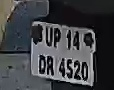0: (80, 61, 90, 84)
1: (66, 31, 71, 51)
2: (73, 60, 81, 83)
4: (56, 57, 66, 79), (73, 31, 82, 52)
5: (66, 59, 73, 81)
D: (37, 54, 46, 75)
P: (54, 29, 63, 49)
R: (46, 55, 55, 76)
U: (46, 27, 53, 50)
